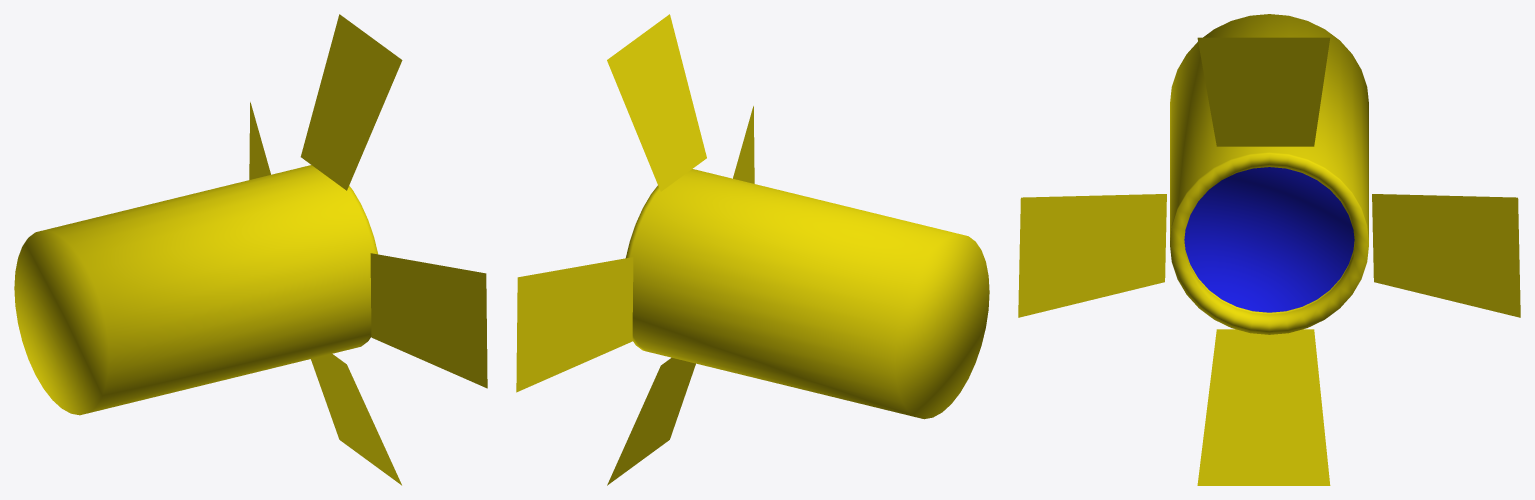
File: spotlight.fbx
3 views of the same model, side by side, from view 1: azimuth 30°, elevation 25°; view 2: azimuth 150°, elevation 25°; view 3: azimuth 270°, elevation 25° (orthographic). The views are drawn at different scales.
Parts seen in each view (by area): view 1: Spotlight.001; view 2: Spotlight.001; view 3: Spotlight.001.
Boxes of the visible parts, x1,y1,x2,y2 form: Spotlight.001: (14,14,487,485); Spotlight.001: (516,14,989,485); Spotlight.001: (1018,14,1520,485).
Size of the model in its own units: 56.12 by 74.48 by 75.67.
